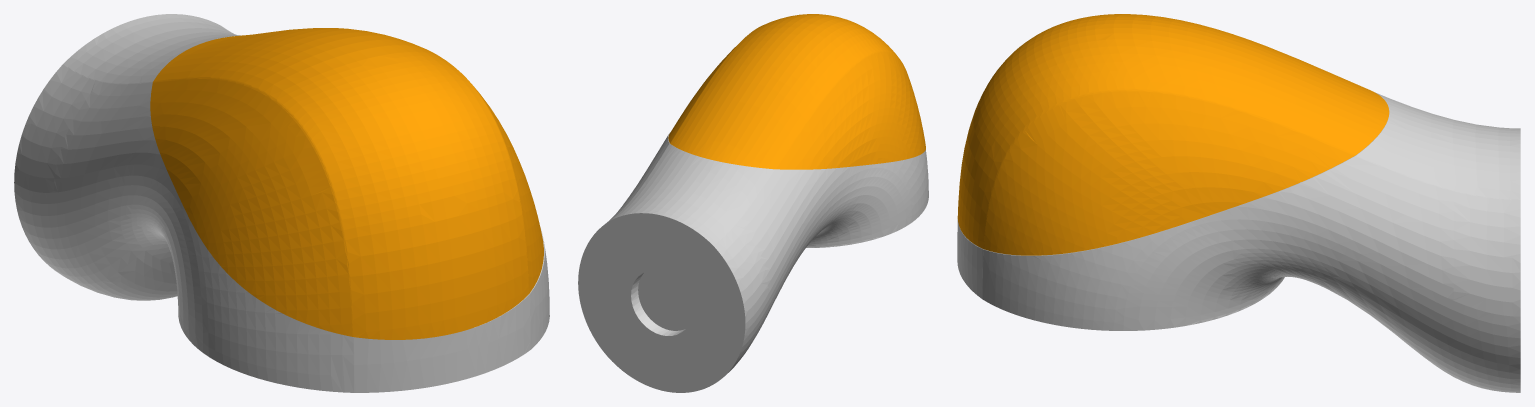
3 views of the same model, side by side, from view 1: azimuth 30°, elevation 25°; view 2: azimuth 150°, elevation 25°; view 3: azimuth 270°, elevation 25° (orthographic). The views are drawn at different scales.
Parts seen in each view (by area): view 1: Link_2; view 2: Link_2; view 3: Link_2.
Part boxes in pixels (x1=…): Link_2: x1=14, y1=14, x2=549, y2=392; Link_2: x1=578, y1=14, x2=928, y2=392; Link_2: x1=957, y1=14, x2=1520, y2=392.
Bounding box in the file's own units: 0.171 × 0.29 × 0.2001.
